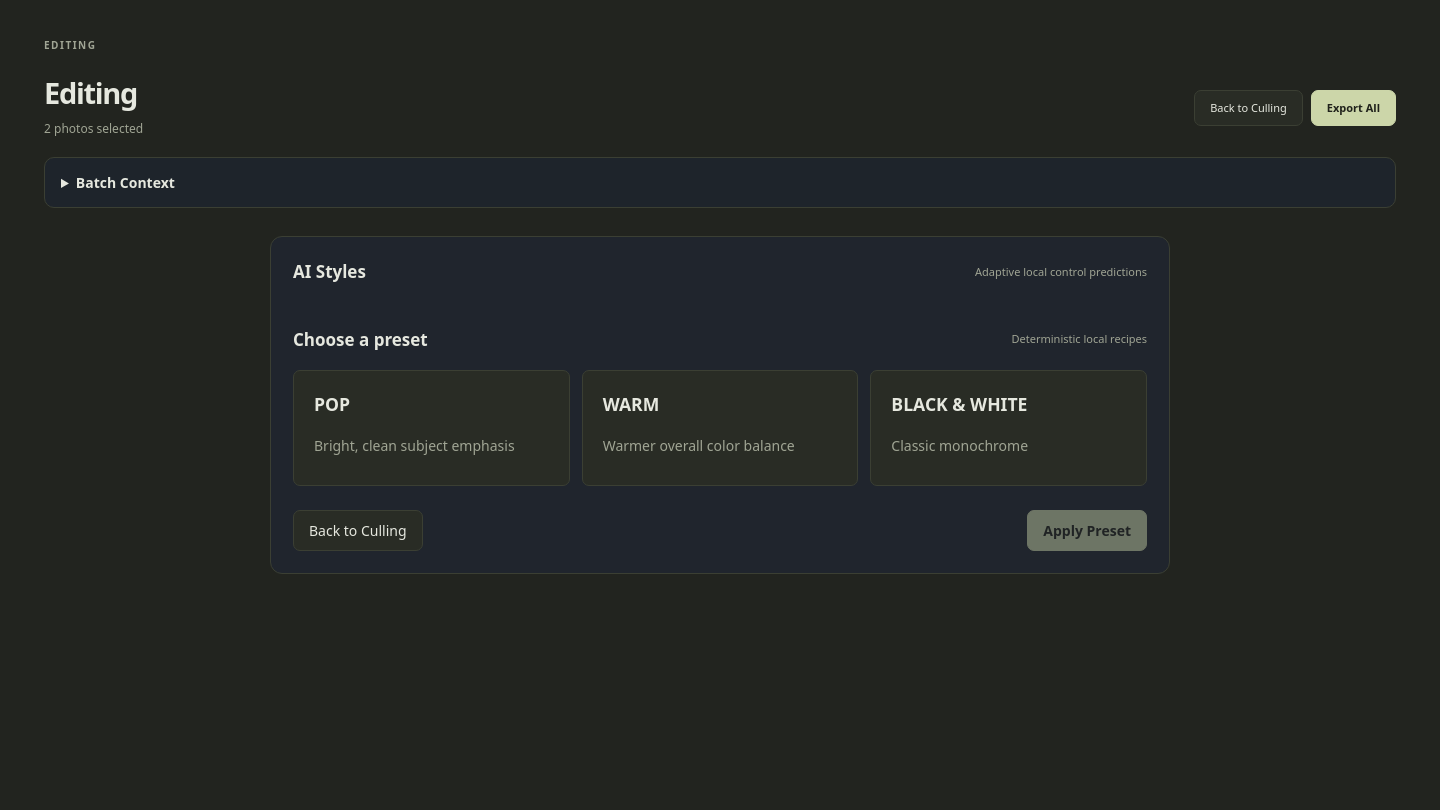
Scenario: exports valid neutral recipes and cancels before starting the next selected asset
Expected: the heading "Choose a preset" is shown, [293,327,428,352]
Step 1. Click the button "Export All" → click(1353, 108), box [1311,90,1396,126]
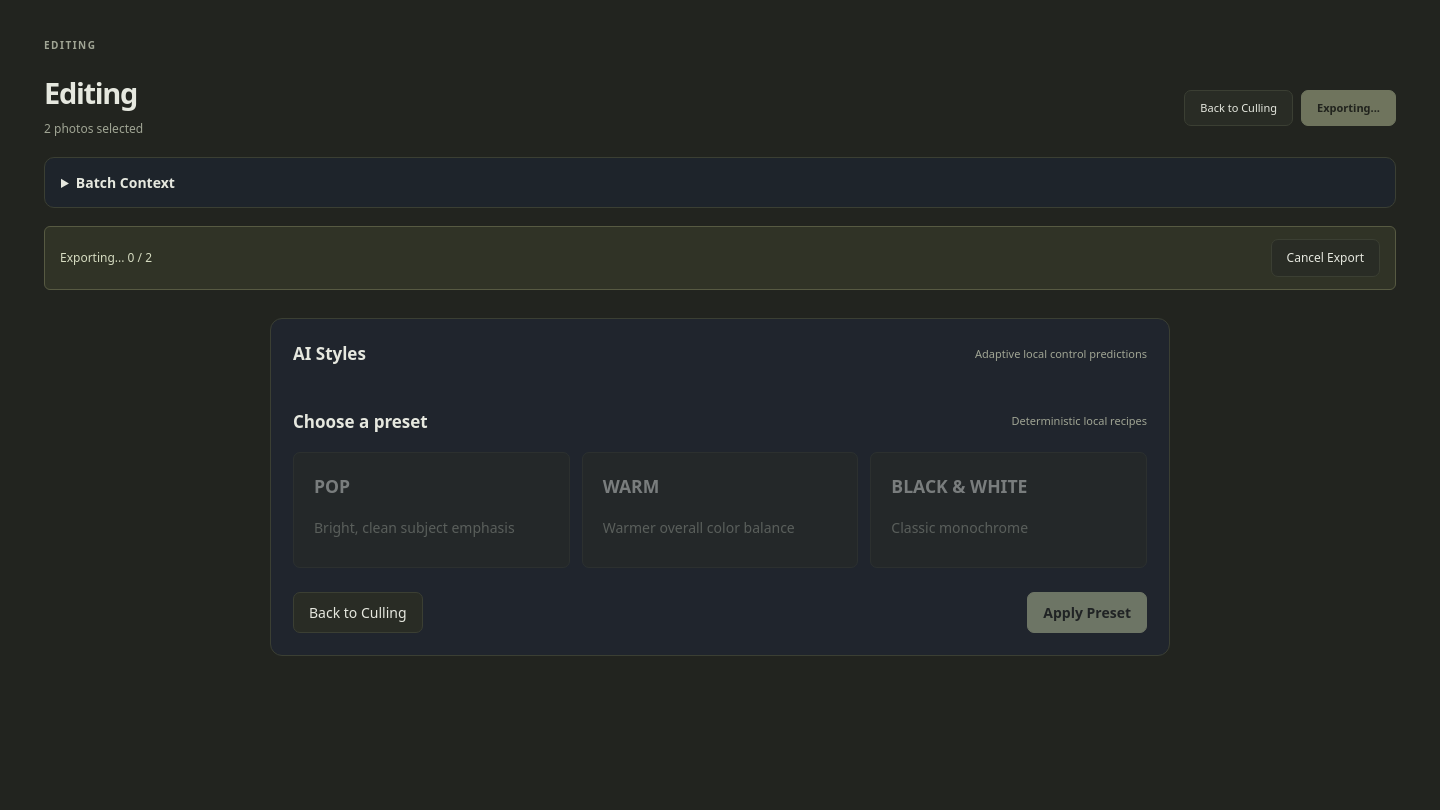
Result: the text "Exporting... 0 / 2" is shown at [60,249,152,267]
Step 2. Click the button "Cancel Export" → click(1325, 258), box [1271,239,1380,277]
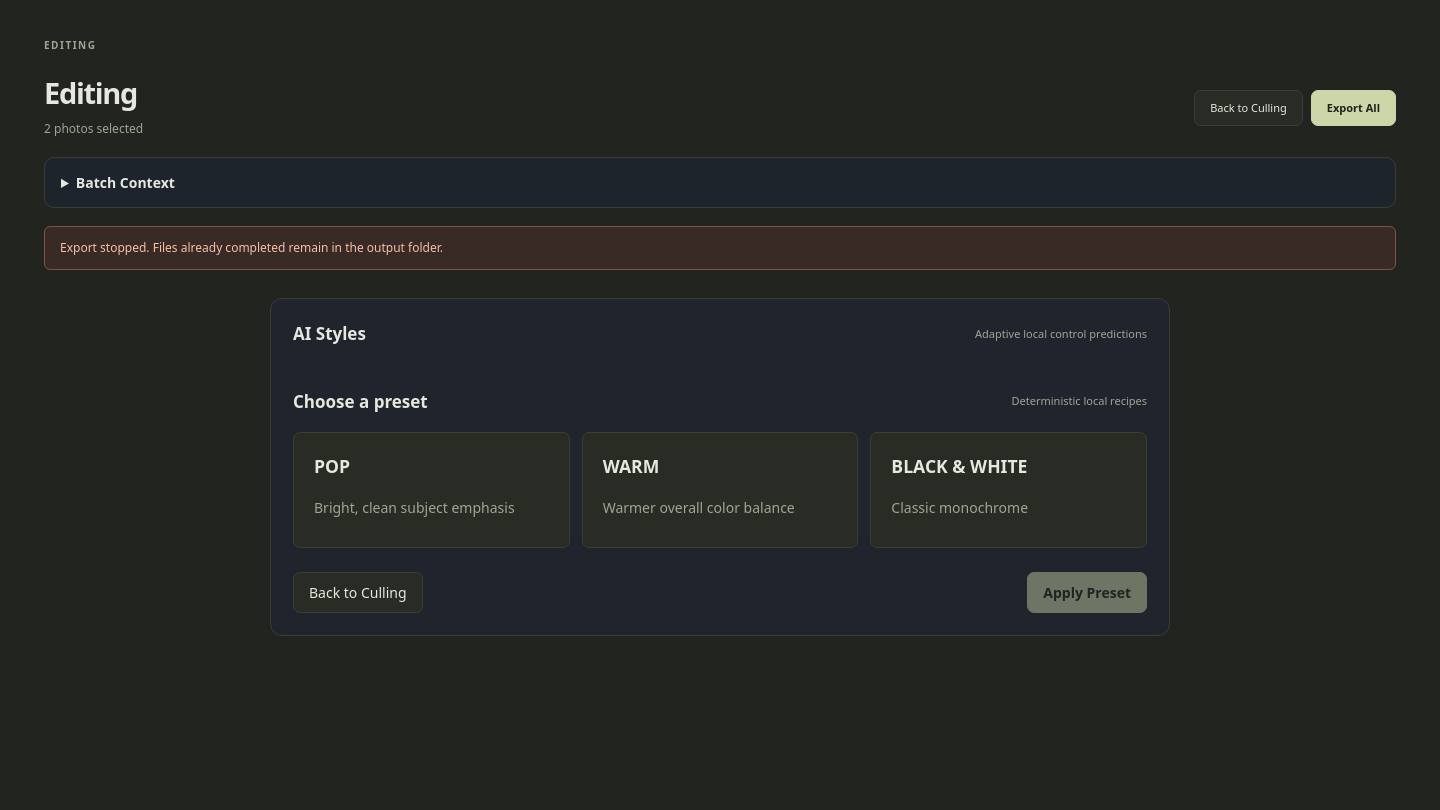
Result: the text "Export stopped. Files already completed remain in the output folder." is shown at [44,226,1396,270]
